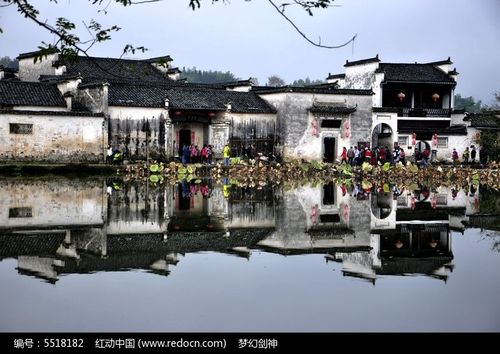buildings: (254, 49, 455, 170)
